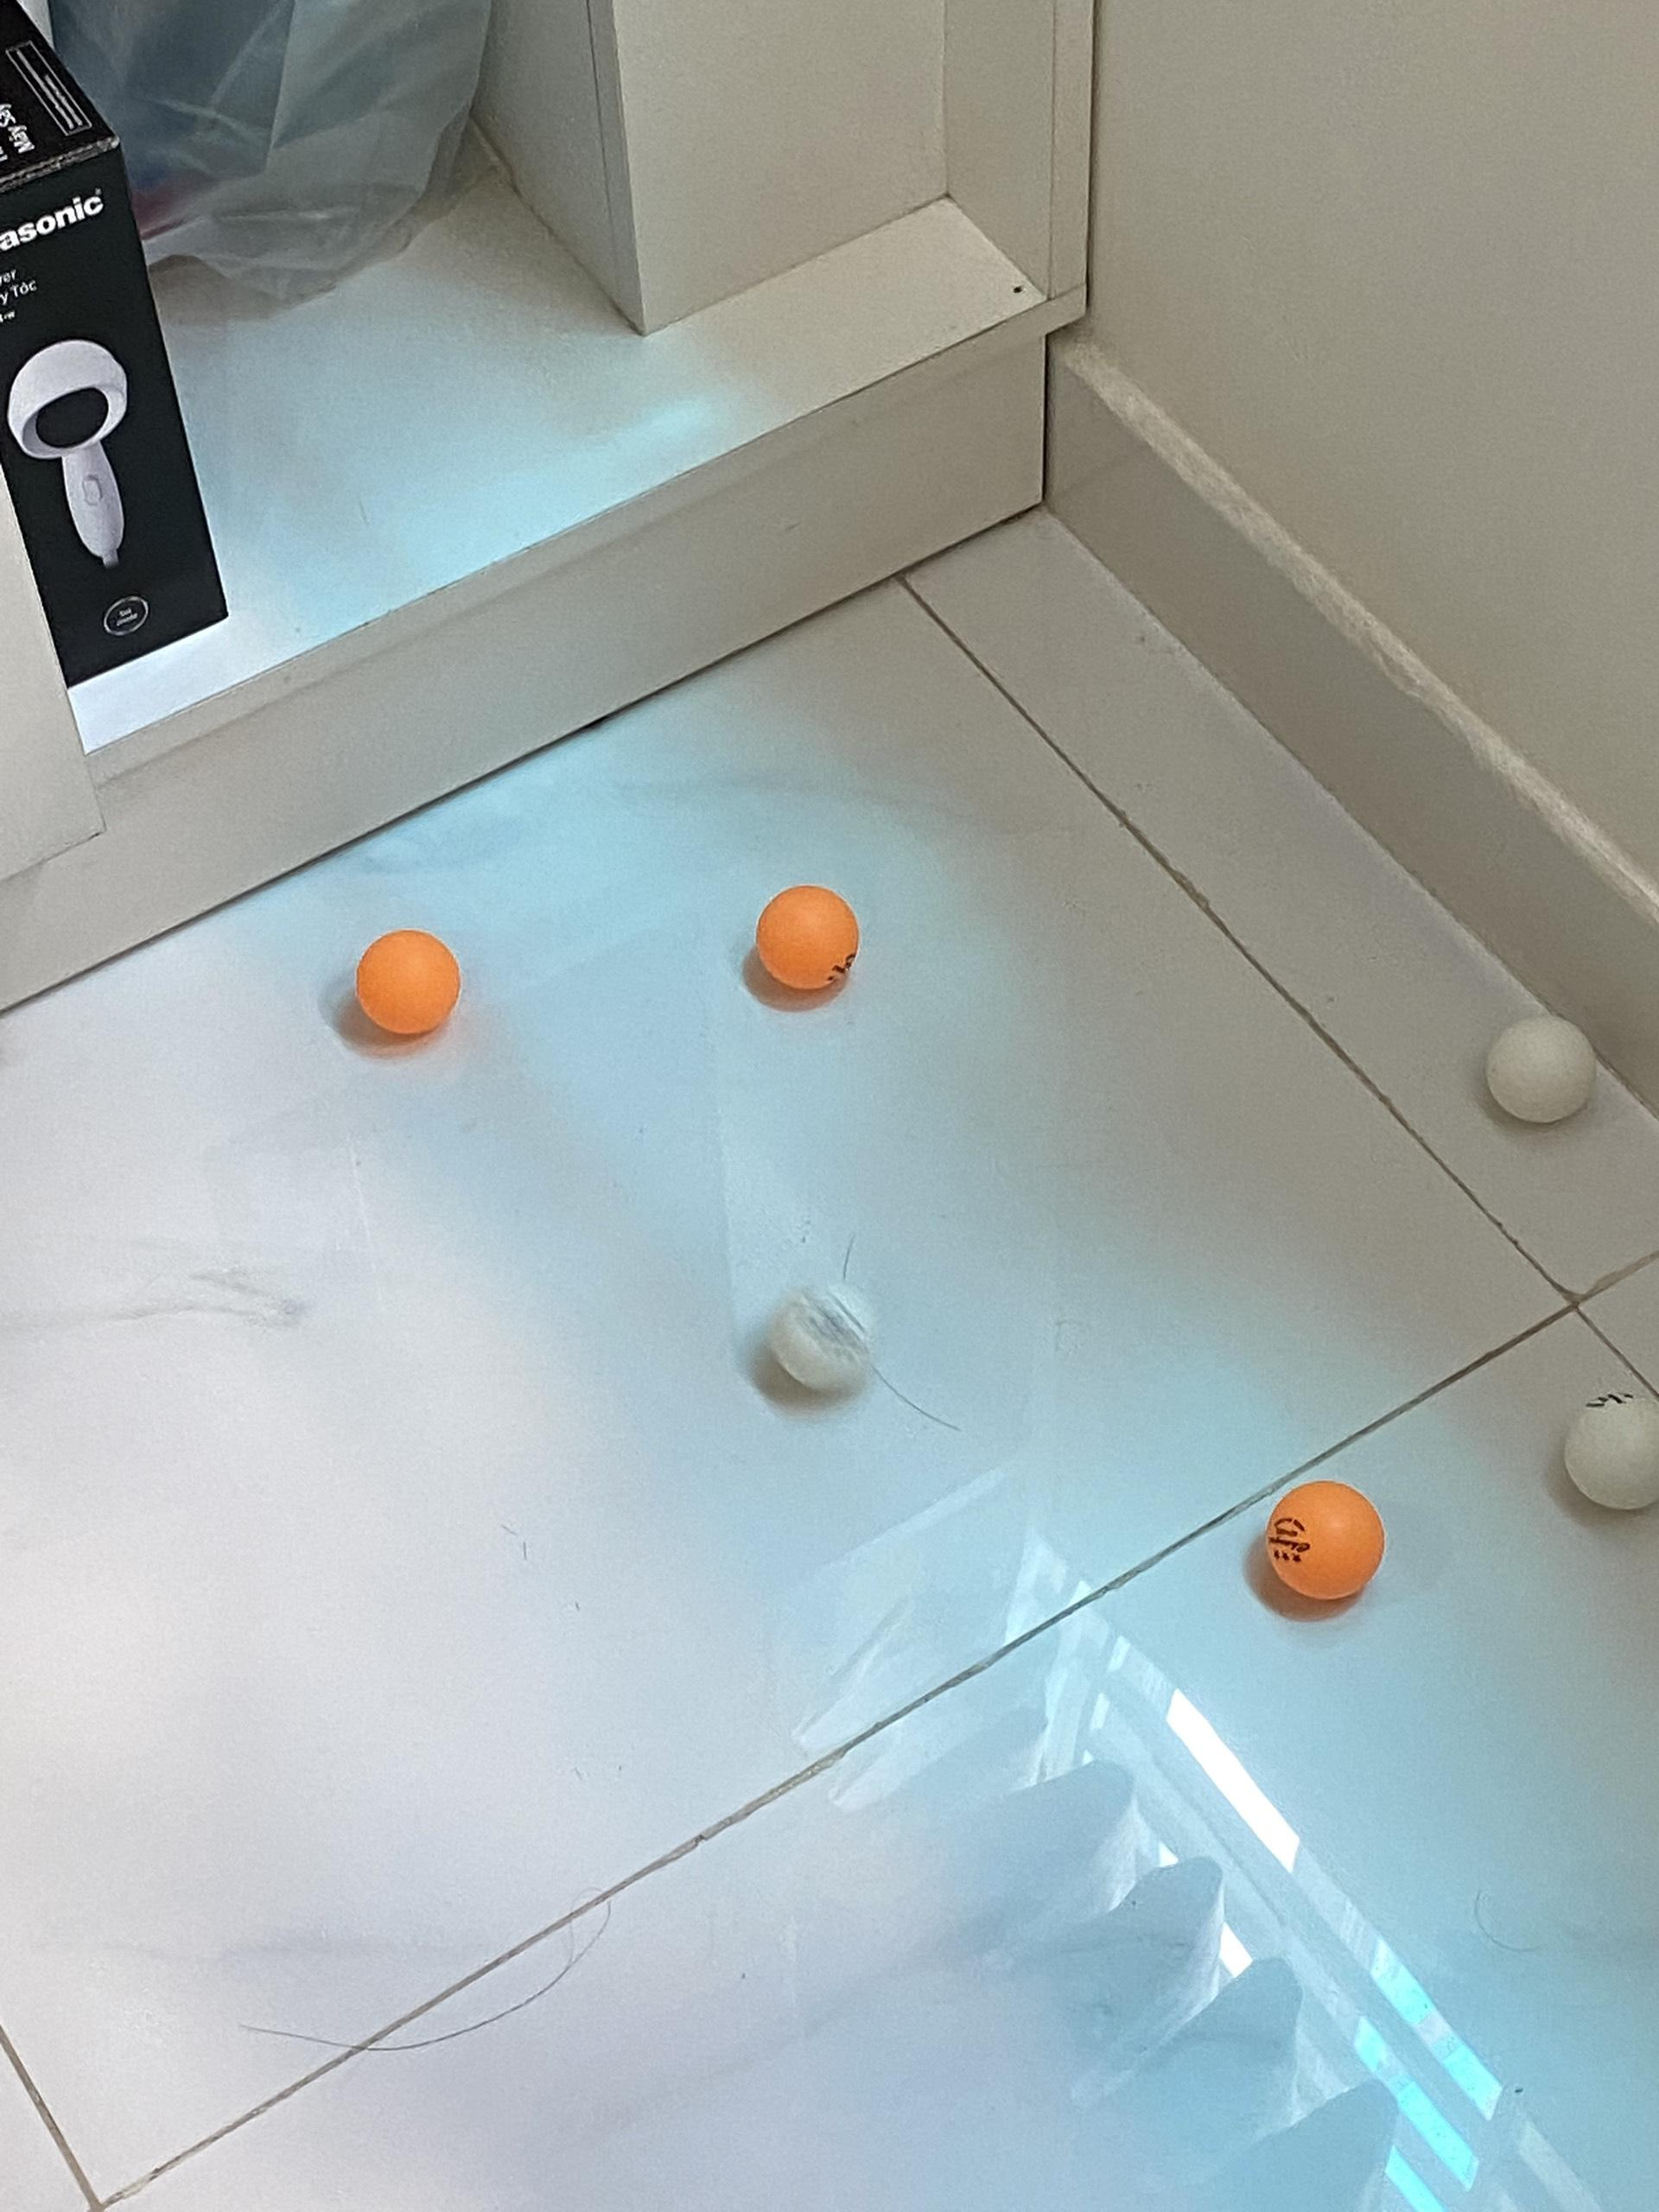oball: (1274, 1480, 1385, 1601), (357, 927, 460, 1040), (760, 885, 861, 996)
